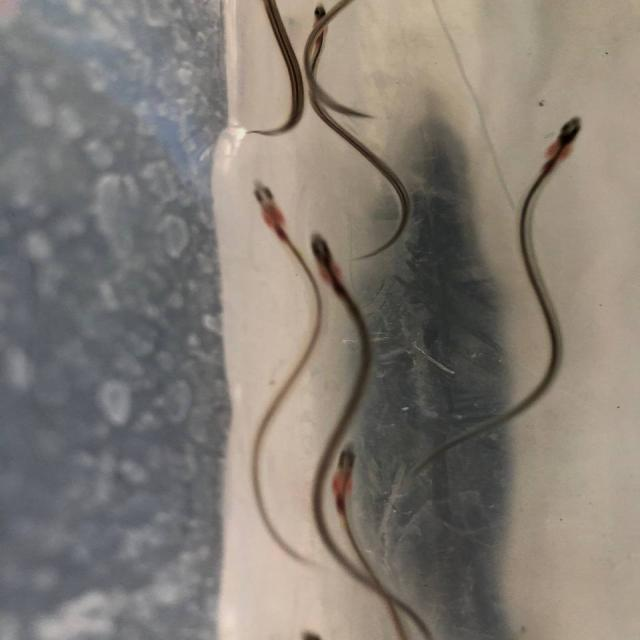glass_eel: (289, 226, 357, 306), (232, 176, 308, 242), (314, 437, 370, 519), (540, 104, 594, 174), (294, 0, 338, 49)
